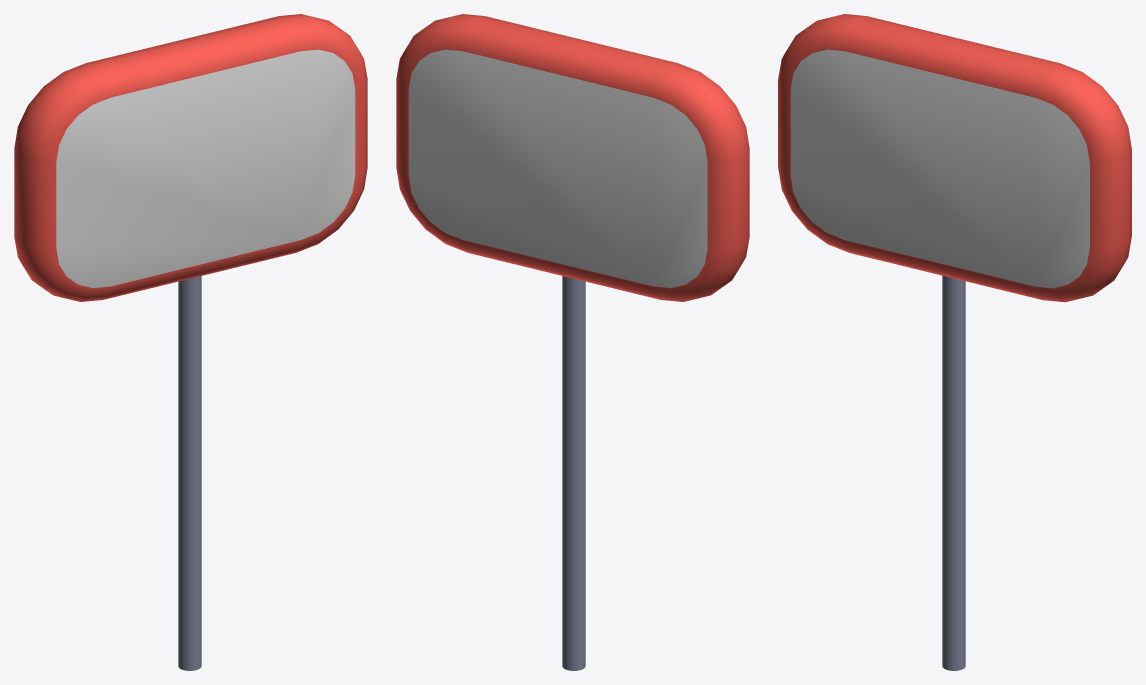
File: HandBoard.fbx
3 renders of one model, left to right at view 1: azimuth 30°, elevation 25°; view 2: azimuth 150°, elevation 25°; view 3: azimuth 330°, elevation 25°, orthographic.
Visible parts, largest first — view 1: HandBoard; view 2: HandBoard; view 3: HandBoard.
Boxes of the visible parts, <box> form: HandBoard: <box>14,14,367,670</box>; HandBoard: <box>396,14,749,670</box>; HandBoard: <box>778,14,1131,670</box>.
Size of the model in its own units: 25.63 by 44.59 by 3.84.
